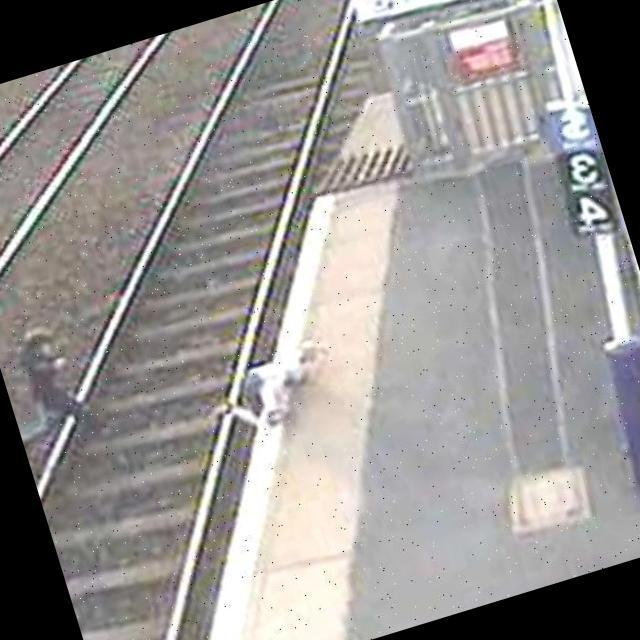person: (0, 295, 127, 488), (210, 319, 355, 456)
